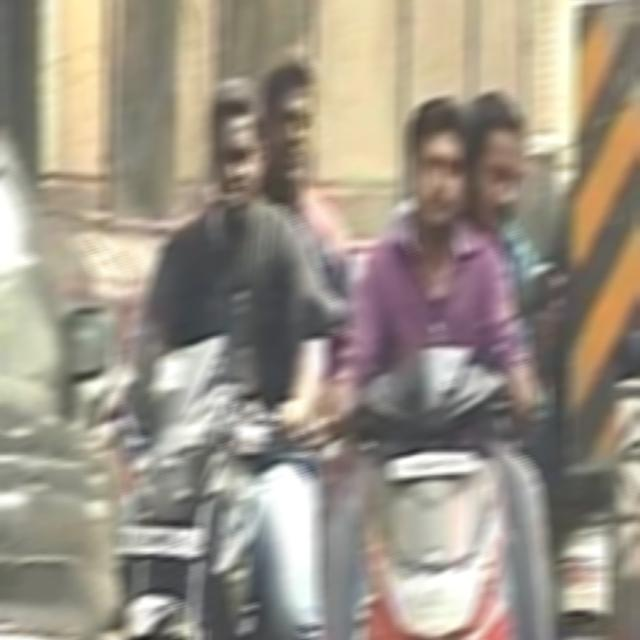Without Helmet: (398, 80, 475, 237), (194, 71, 270, 215)
